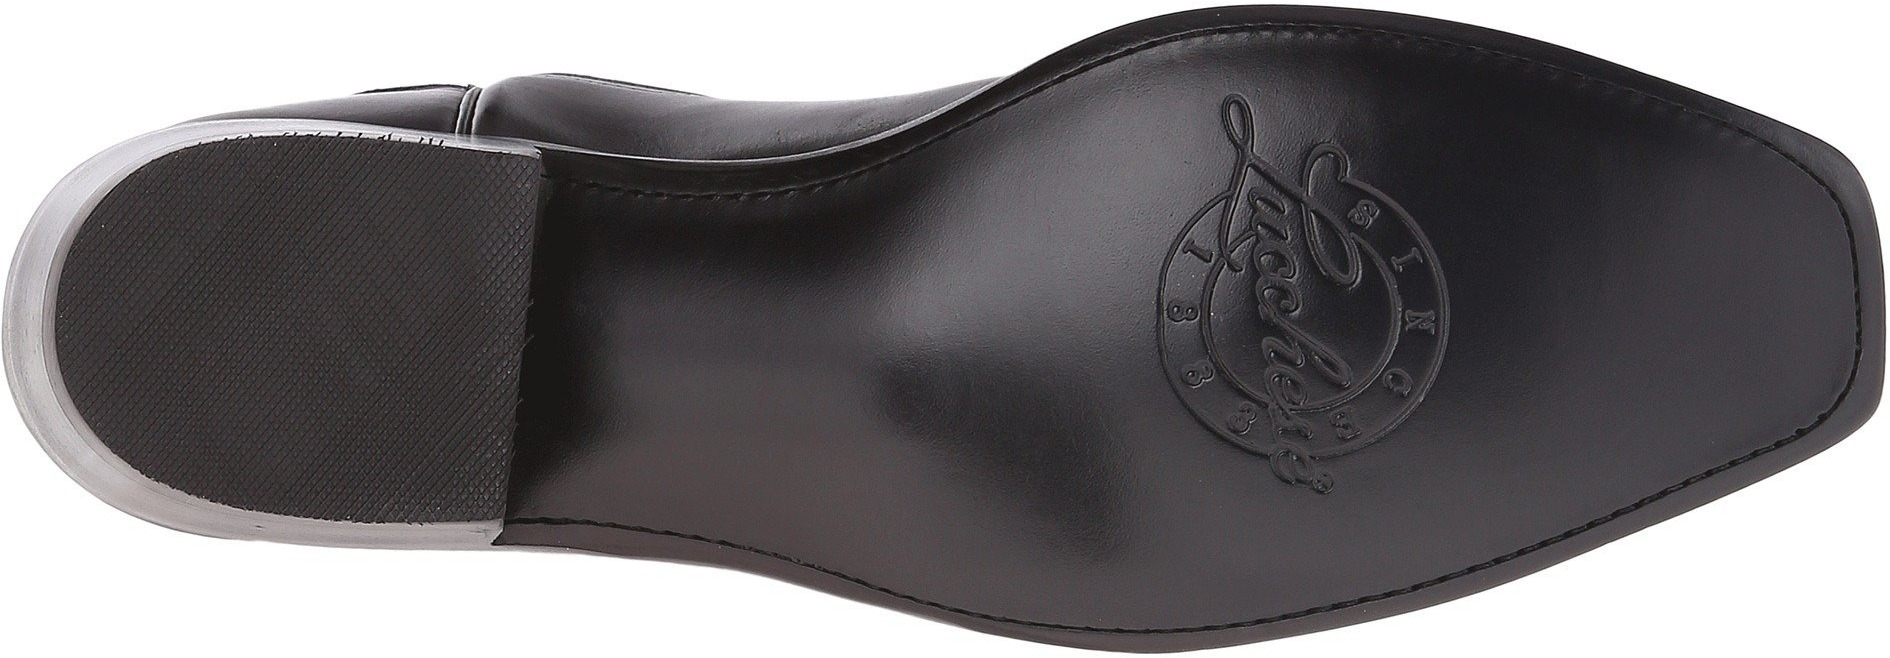circle: (1096, 84, 1504, 516)
other: (193, 166, 529, 477), (1462, 135, 1792, 439), (70, 235, 204, 357)
text: (1096, 84, 1504, 516), (1226, 187, 1313, 278), (1232, 270, 1321, 356), (1248, 356, 1323, 428)
